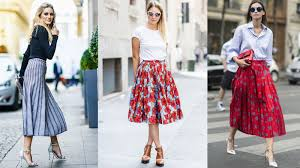C_T-shirt: (130, 28, 169, 61)
C_skirt: (221, 54, 297, 143), (13, 55, 72, 147), (121, 58, 188, 131)
